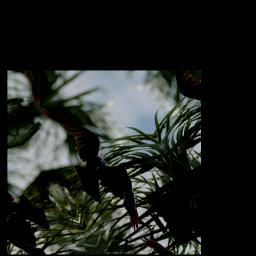Crow: (19, 91, 162, 245)
